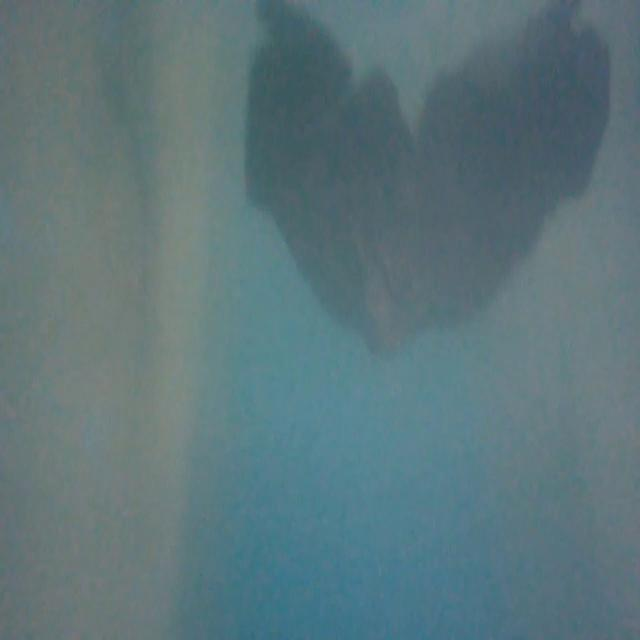plastic bags: (236, 0, 628, 368)
